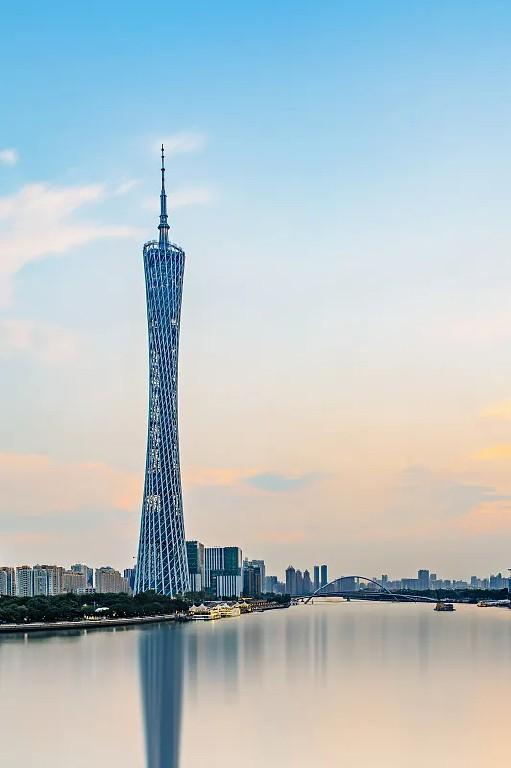Canton: (133, 143, 195, 606)
